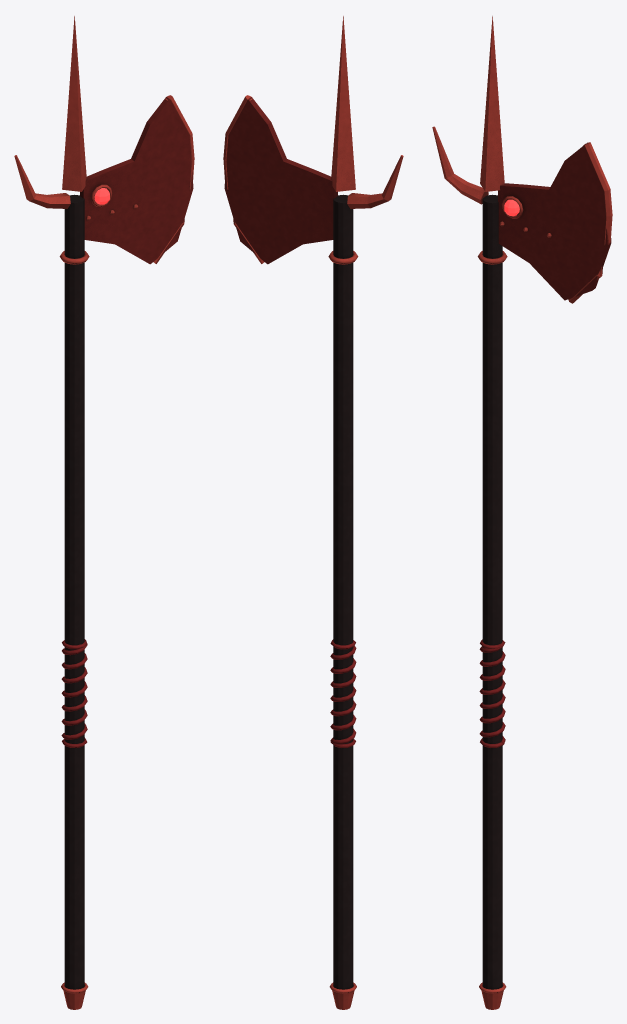
Rendered from 07_hell_spear.fbx.
3 views of the same model, side by side, from view 1: azimuth 30°, elevation 25°; view 2: azimuth 150°, elevation 25°; view 3: azimuth 330°, elevation 25° (orthographic).
Parts seen in each view (by area): view 1: Weapon; view 2: Weapon; view 3: Weapon.
Boxes of the visible parts, x1,y1,x2,y2 form: Weapon: [14, 16, 194, 1009]; Weapon: [223, 16, 403, 1009]; Weapon: [432, 16, 612, 1009].
Size of the model in its own units: 42.22 by 224 by 6.31.
Materials: 2 (1 with a texture image).
